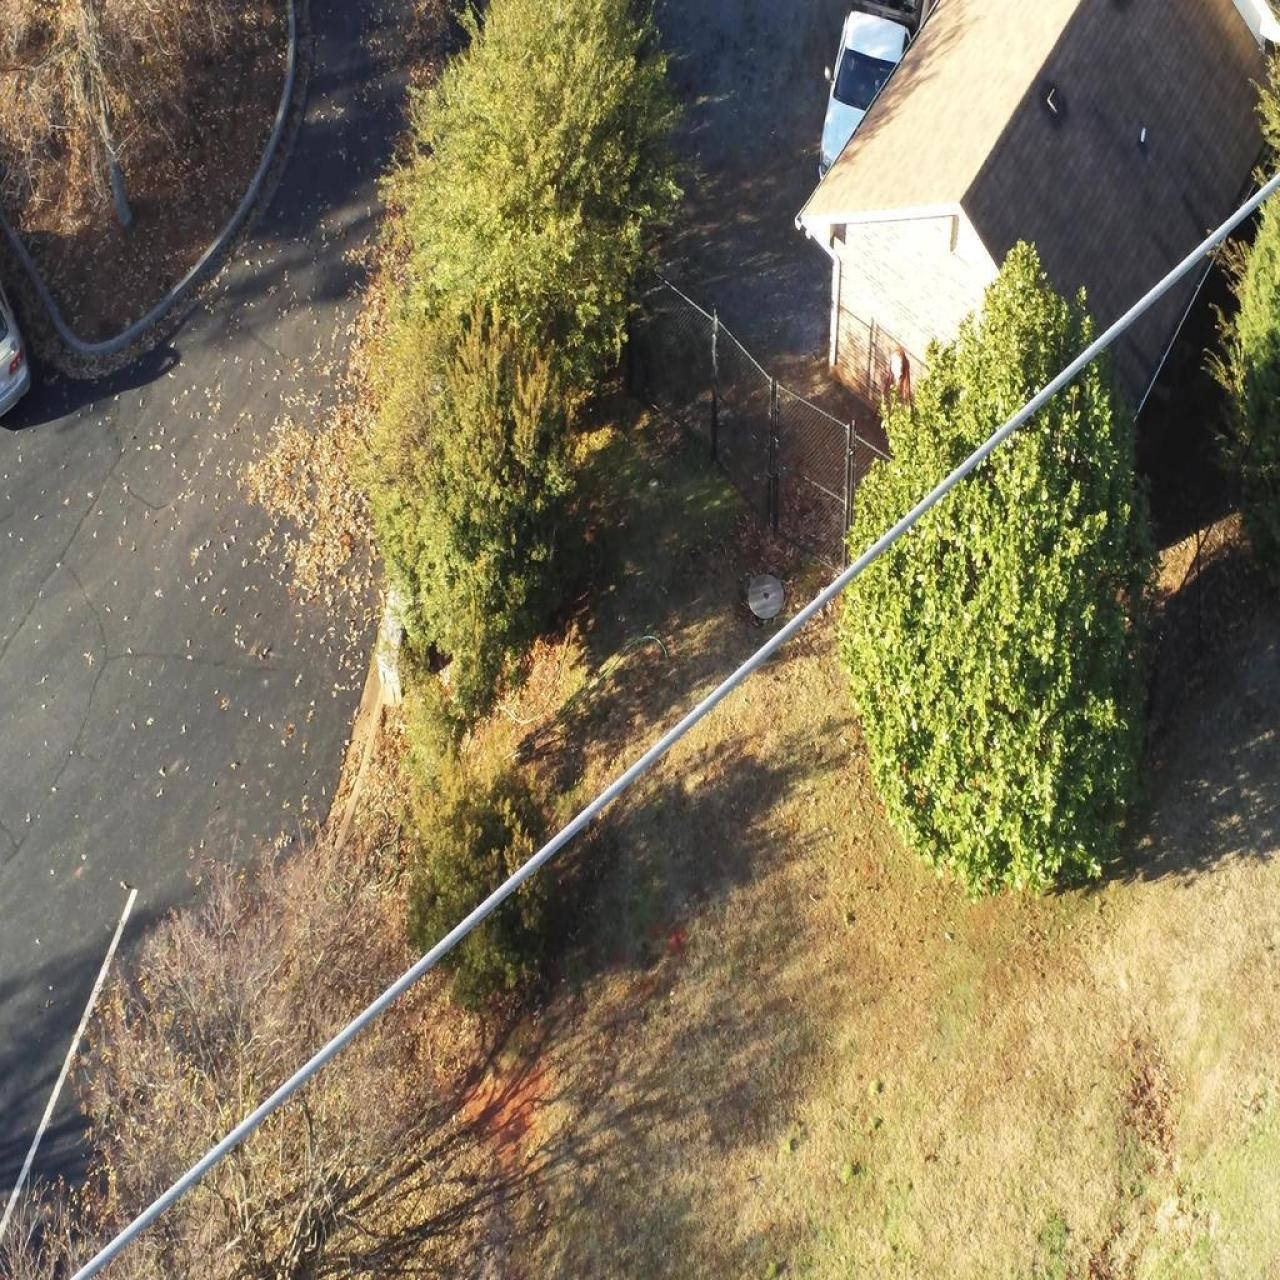cable: (68, 178, 1274, 1279)
